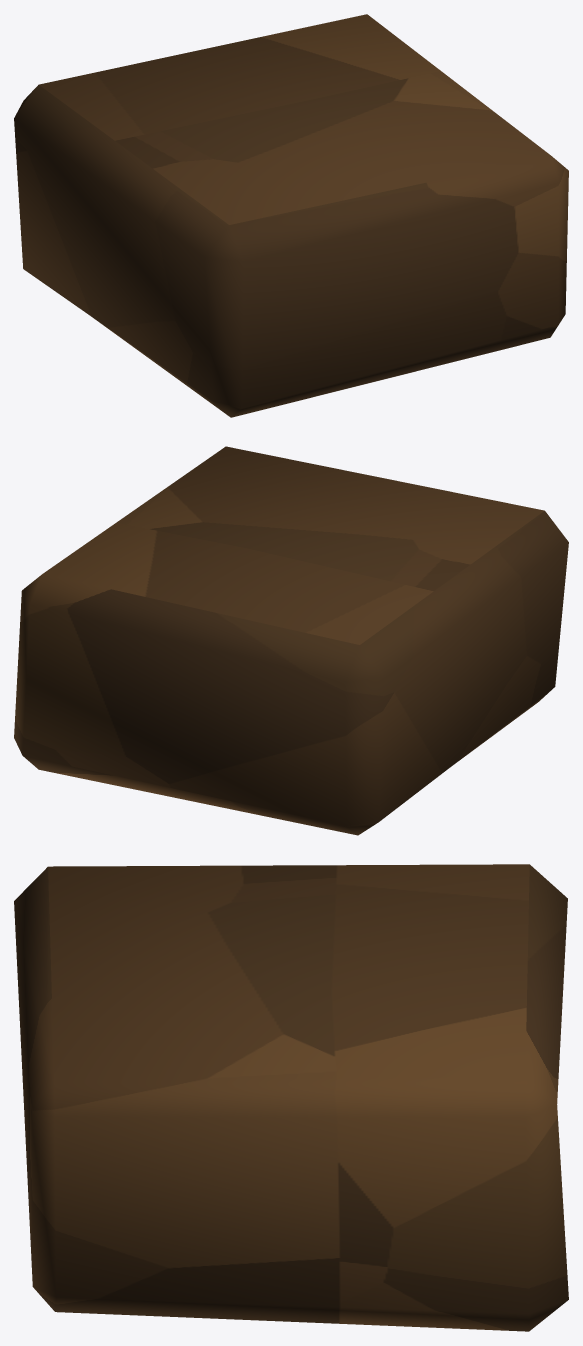
Rendered from Turba5.fbx.
3 views of the same model, one above another, from view 1: azimuth 30°, elevation 25°; view 2: azimuth 150°, elevation 25°; view 3: azimuth 270°, elevation 25° (orthographic). The views are drawn at different scales.
Parts seen in each view (by area): view 1: Turba.004; view 2: Turba.004; view 3: Turba.004.
Part boxes in pixels (<box>): Turba.004: <box>14,14,568,417</box>; Turba.004: <box>14,446,568,835</box>; Turba.004: <box>14,864,568,1331</box>.
Size of the model in its own units: 94.68 by 49.62 by 94.64.
Materials: 1 (1 with a texture image).
